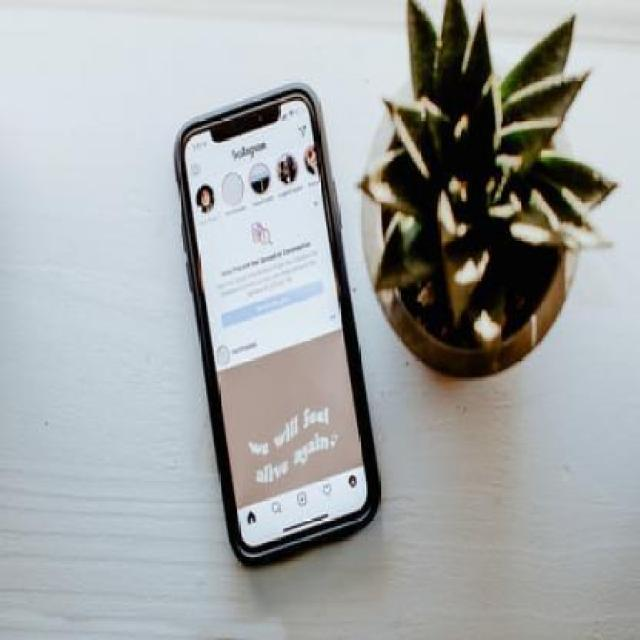phone: (166, 76, 382, 558)
